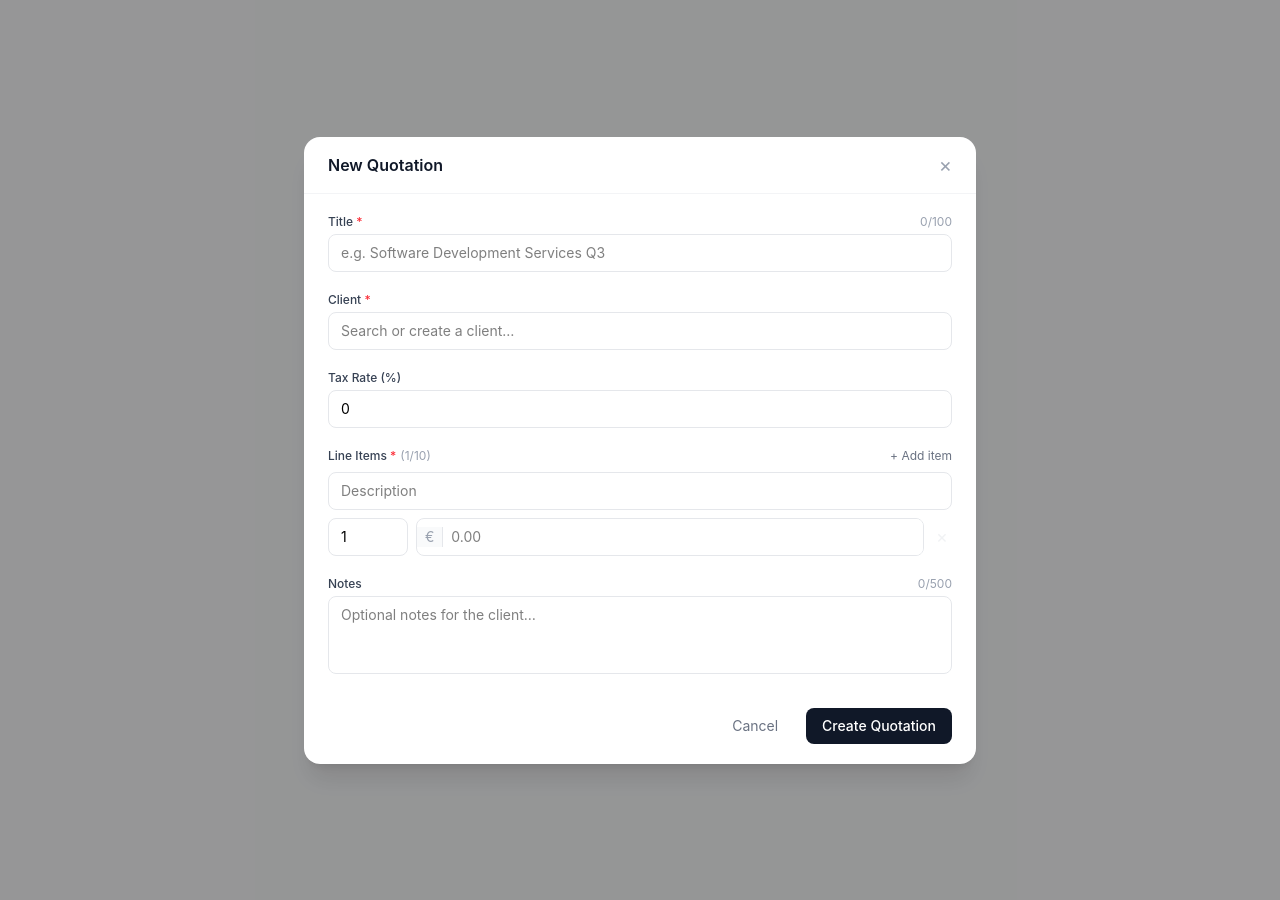
CreateQuotationModal › shows validation error when line item description is empty
Step 1. Type "New Service" into the field with placeholder "e.g. Software Development Services Q3" → point(640, 252), box 328,234 -> 952,272
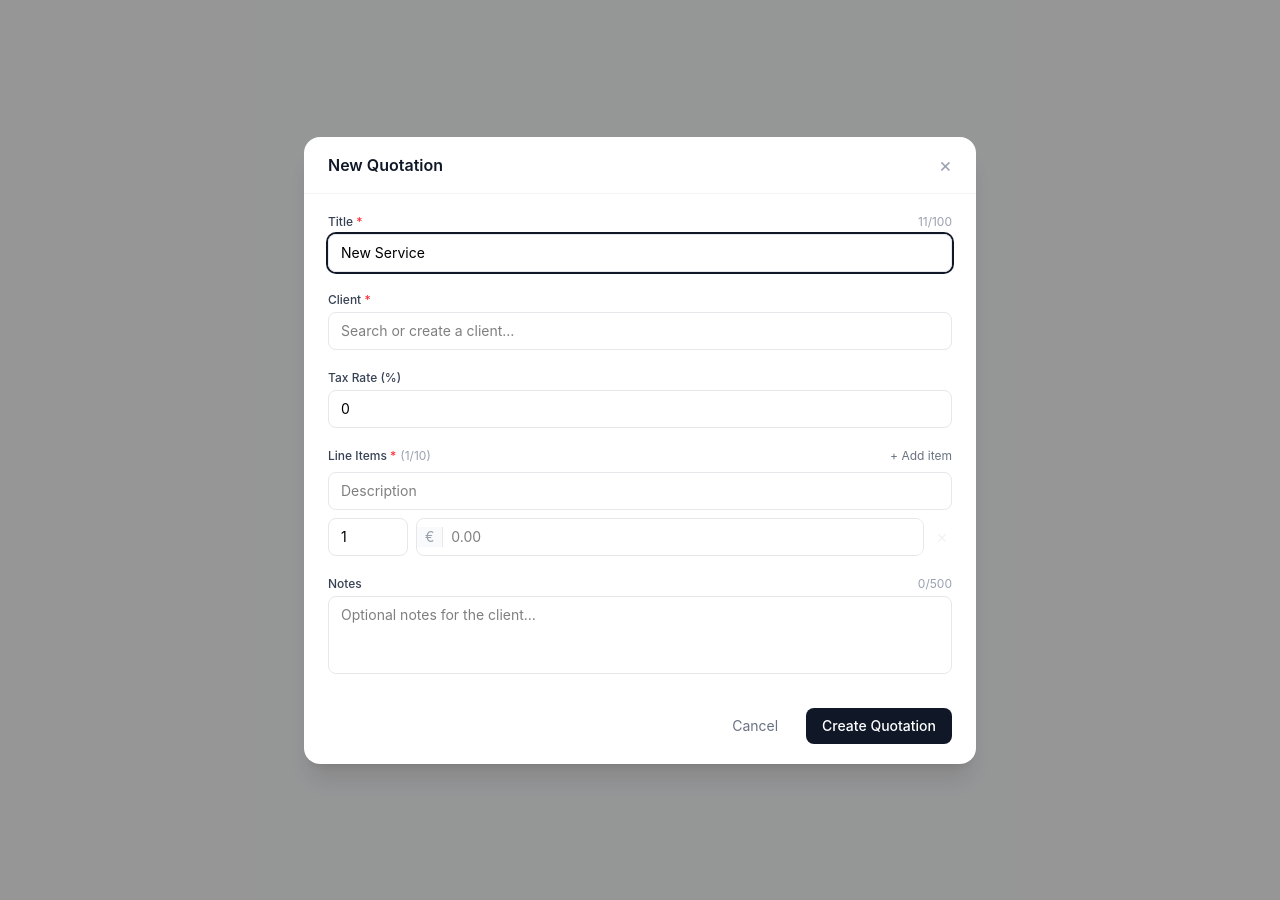
Step 2. Click the field with placeholder "Search or create a client…" → point(640, 330), box 328,312 -> 952,350
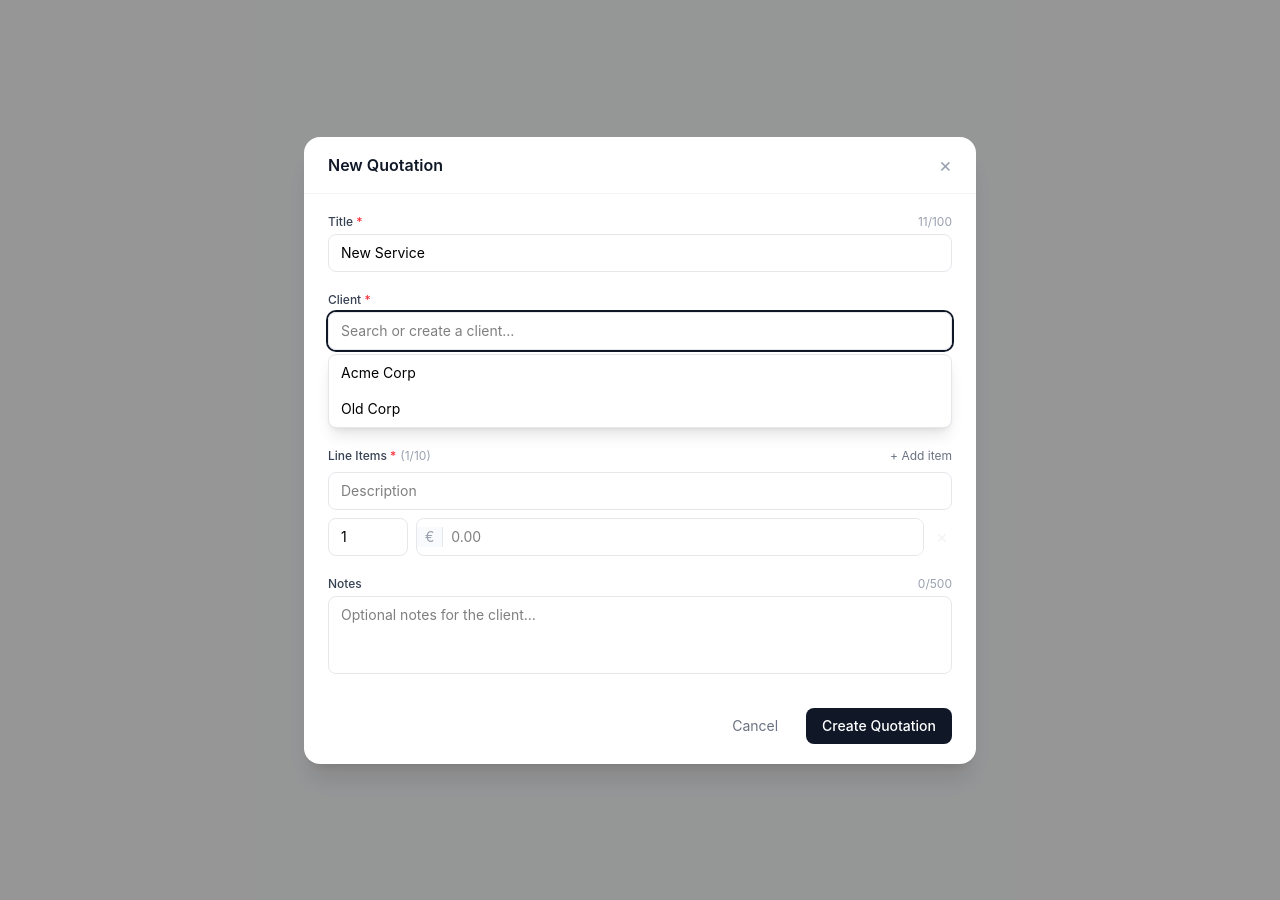
Now the list is shown, box 328,354 -> 952,428
Step 3. Click the option "Acme Corp" → point(378, 372), box 341,364 -> 416,380
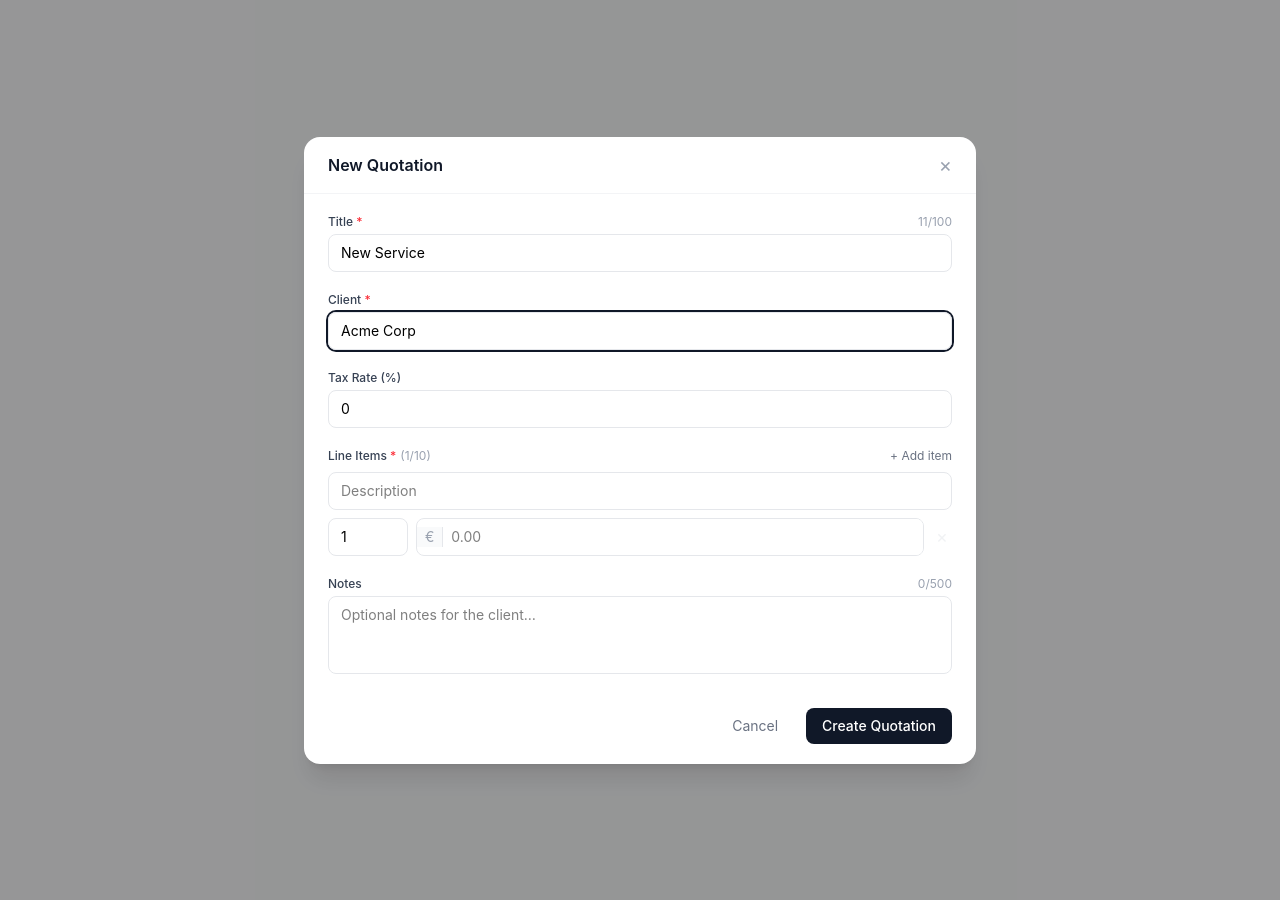
Step 4. Click the button "Create Quotation" → point(879, 726), box 806,708 -> 952,744
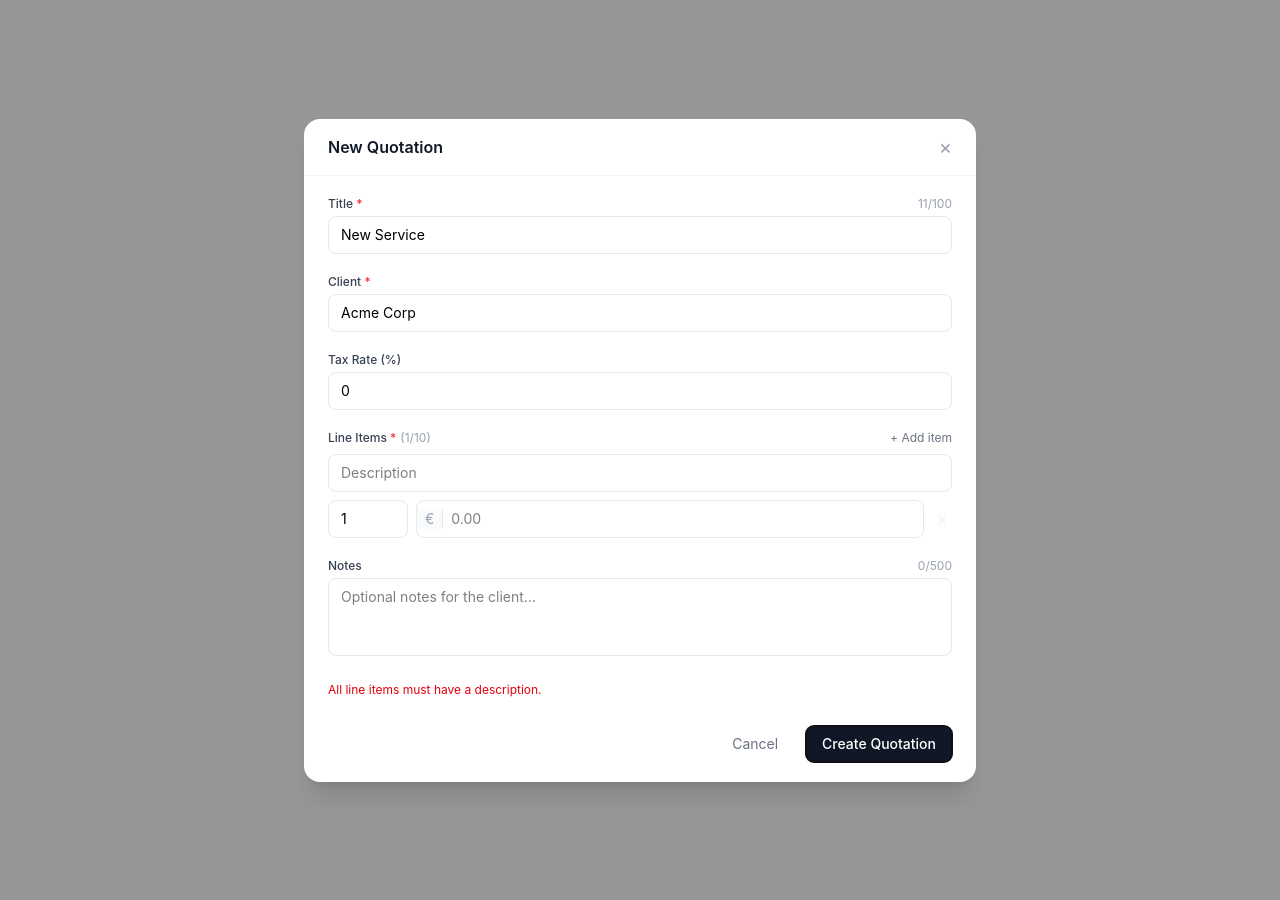
Now the text "All line items must have a description." is shown, box 328,682 -> 542,696
